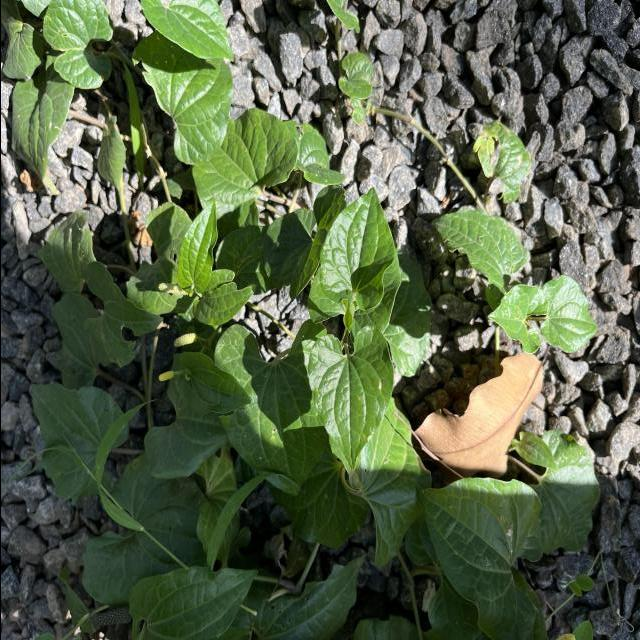Piper longum: (411, 476, 543, 640), (304, 324, 396, 474), (316, 186, 396, 313)
